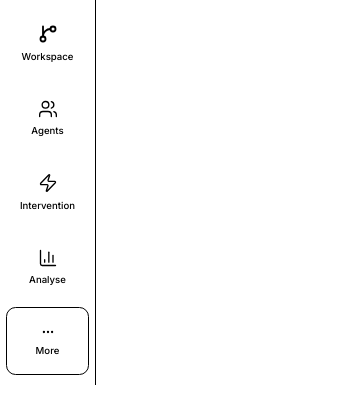
Scenario: TabRail › opens the moved more actions menu from the rail
Step 1. Click the button "More" → [48, 341], box [6, 307, 89, 375]
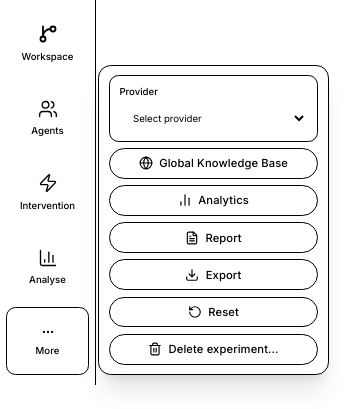
Expected: the button "Reset" is shown, [109, 297, 318, 327]
Expected: the button "Delete experiment..." is shown, [109, 334, 318, 365]
